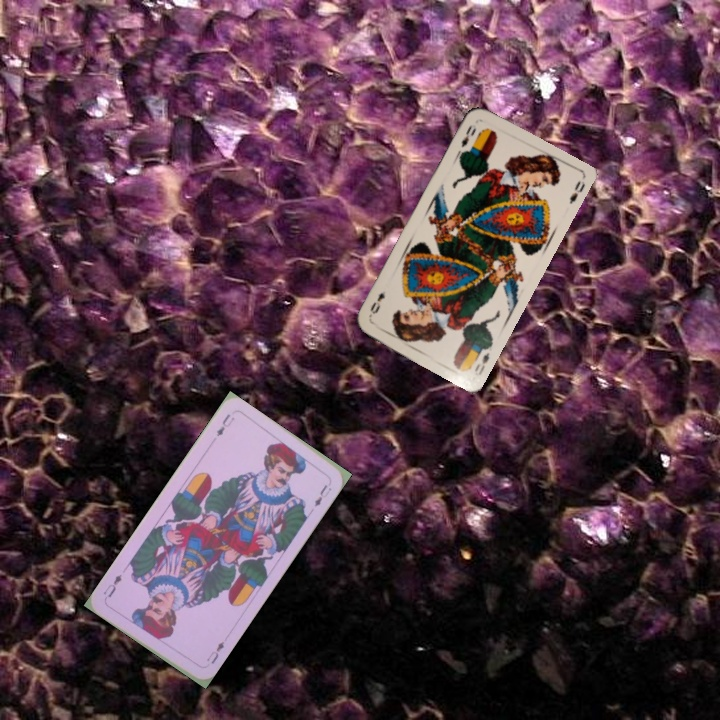EO: (470, 348, 492, 378), (457, 121, 479, 150)
EU: (202, 637, 227, 667), (212, 410, 237, 439)
